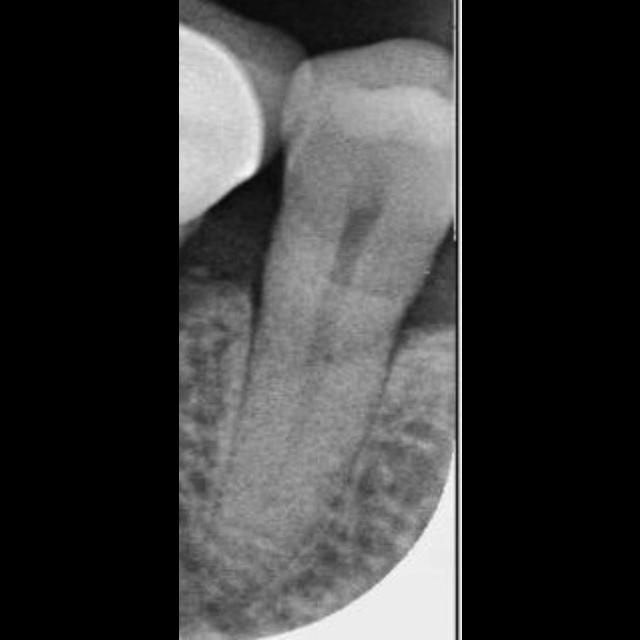tooth: (200, 38, 456, 618)
